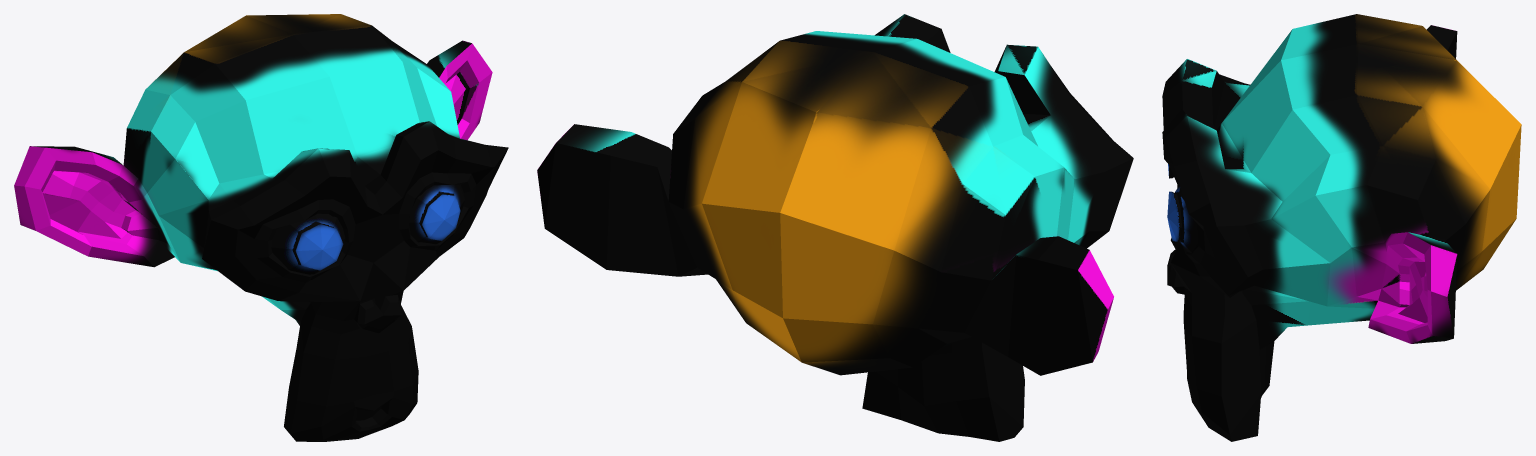
3 views of the same model, side by side, from view 1: azimuth 30°, elevation 25°; view 2: azimuth 150°, elevation 25°; view 3: azimuth 270°, elevation 25° (orthographic). The views are drawn at different scales.
Visible parts, largest first — view 1: Suzanne; view 2: Suzanne; view 3: Suzanne.
Boxes of the visible parts, x1=… form: Suzanne: x1=14, y1=14, x2=508, y2=441; Suzanne: x1=537, y1=14, x2=1133, y2=441; Suzanne: x1=1162, y1=14, x2=1521, y2=441.
Bounding box in the file's own units: 2.73 × 1.97 × 1.7.
1 material, 1 textured.
